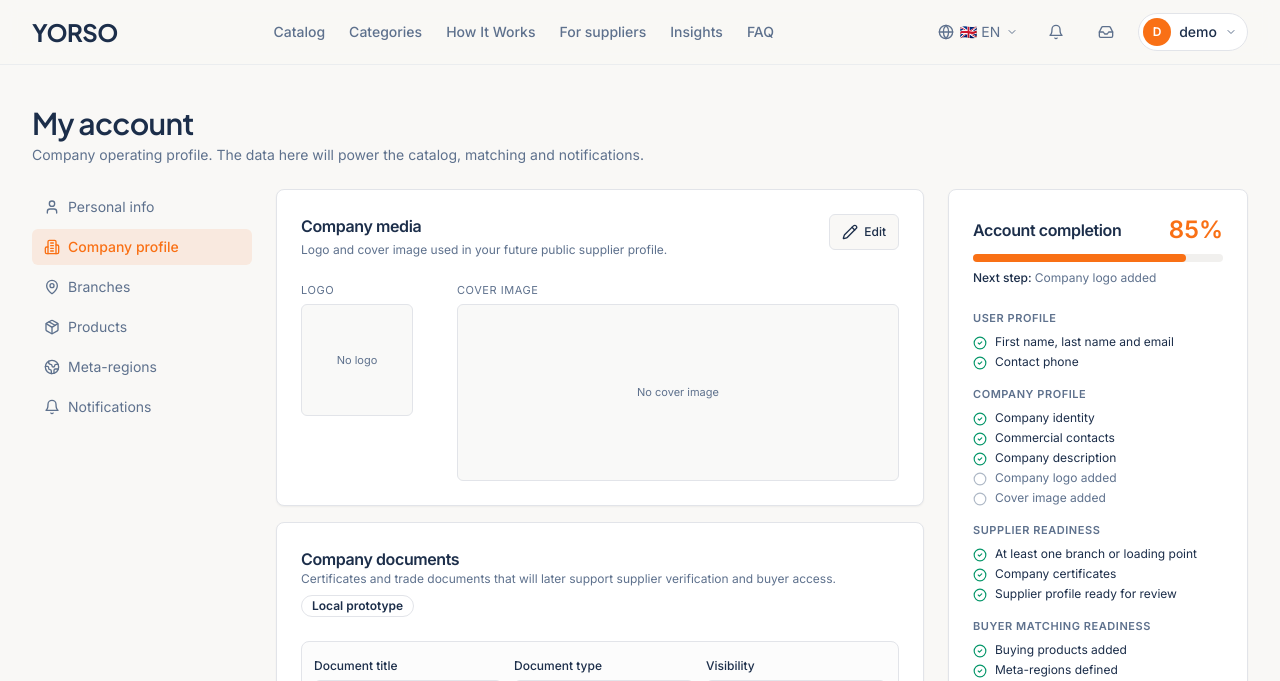
Test: Account editability › Company media card exists with logo and cover preview slots
expect the element with test id "account-card-company-media" is shown: met, box [276,189,924,506]
Click the button with test id "account-card-company-media-edit": (864, 232) [829,214,899,250]
(page scrolled)
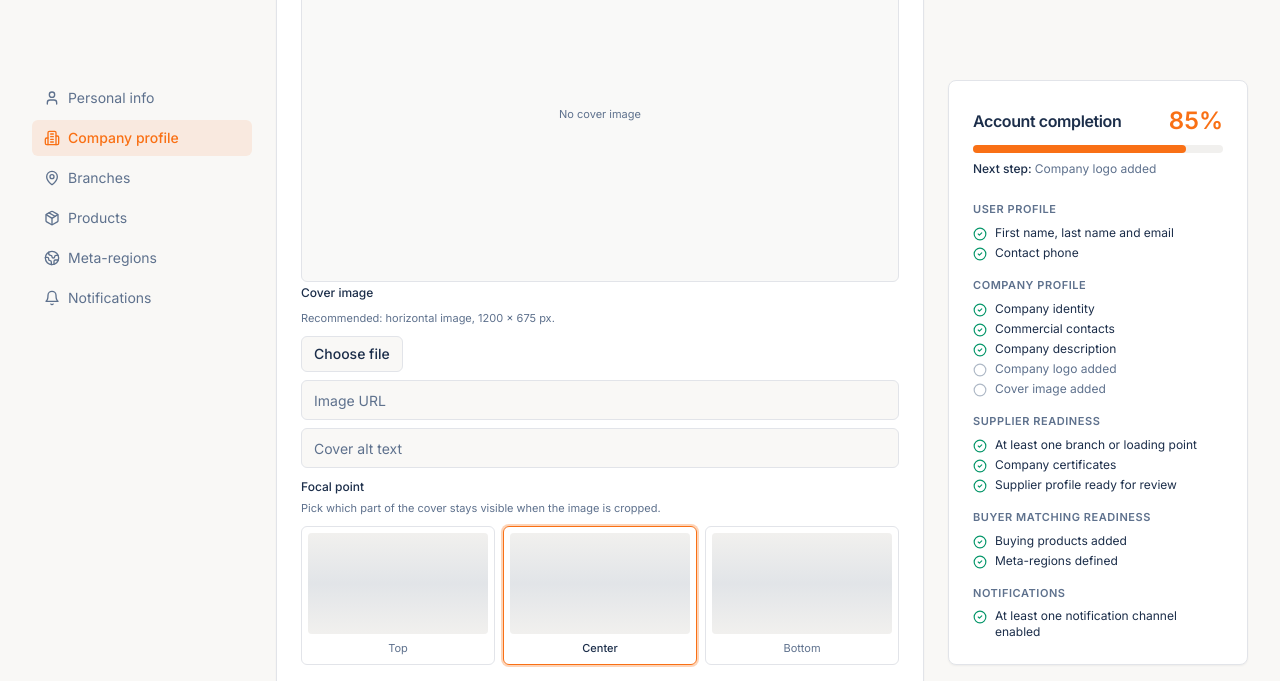
expect the field with test id "account-media-cover-url" is shown: met, box [301,380,899,420]
